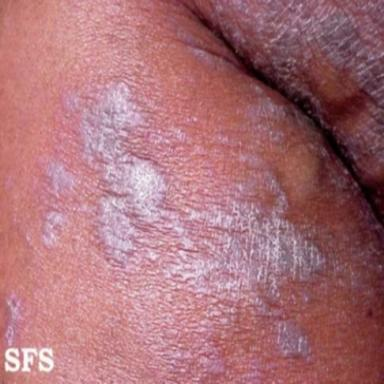lichen: (81, 82, 325, 316), (196, 0, 384, 176), (38, 152, 75, 197), (277, 320, 307, 355), (41, 210, 65, 248), (59, 87, 81, 116)
